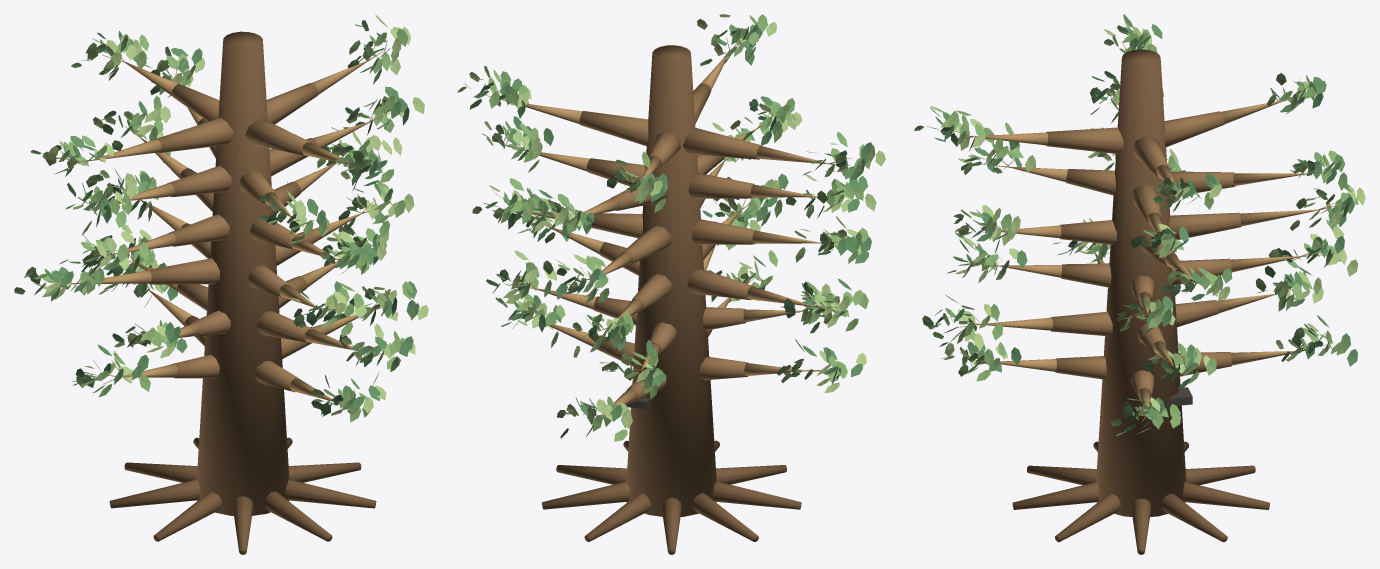
The model's file is old_tree_landmark.glb.
3 views of the same model, side by side, from view 1: azimuth 30°, elevation 25°; view 2: azimuth 150°, elevation 25°; view 3: azimuth 270°, elevation 25° (orthographic). The views are drawn at different scales.
Visible parts, largest first — view 1: old_tree_trunk, old_tree_branch_5_2_a, old_tree_branch_2_2_a, old_root_4, old_root_8, old_tree_branch_5_3_a, old_tree_branch_4_2_a, old_tree_branch_3_2_a, old_root_5, old_root_7, old_tree_branch_5_0_a, old_tree_branch_1_3_a (+14 smaller); view 2: old_tree_trunk, old_tree_branch_5_2_a, old_tree_branch_5_0_a, old_tree_branch_4_2_a, old_root_5, old_root_1, old_tree_branch_2_2_a, old_tree_branch_3_2_a, old_root_4, old_root_2, old_tree_branch_3_0_a, old_tree_branch_3_1_a (+13 smaller); view 3: old_tree_trunk, old_tree_branch_5_3_a, old_tree_branch_3_1_a, old_root_2, old_root_7, old_tree_branch_5_1_a, old_tree_branch_1_3_a, old_tree_branch_3_3_a, old_root_1, old_root_8, old_tree_branch_4_3_a, old_tree_branch_2_3_a (+12 smaller).
Boxes of the visible parts, box(x1,y1,x2,y2) form: old_tree_trunk: box(197, 31, 289, 515); old_tree_branch_5_2_a: box(155, 118, 233, 152); old_tree_branch_2_2_a: box(147, 258, 219, 284); old_root_4: box(109, 479, 200, 508); old_root_8: box(285, 479, 376, 508); old_tree_branch_5_3_a: box(245, 119, 310, 156); old_tree_branch_4_2_a: box(167, 165, 231, 197); old_tree_branch_3_2_a: box(169, 214, 229, 246); old_root_5: box(153, 491, 221, 541); old_root_7: box(264, 491, 332, 541); old_tree_branch_5_0_a: box(266, 83, 318, 124); old_tree_branch_1_3_a: box(256, 311, 312, 342); old_tree_trunk: box(626, 45, 716, 516); old_tree_branch_5_2_a: box(683, 127, 761, 159); old_tree_branch_5_0_a: box(579, 111, 648, 146); old_tree_branch_4_2_a: box(688, 173, 754, 198); old_root_5: box(713, 481, 801, 509); old_root_1: box(542, 481, 630, 509); old_tree_branch_2_2_a: box(687, 268, 753, 300); old_tree_branch_3_2_a: box(692, 219, 755, 244); old_root_4: box(692, 493, 758, 541); old_root_2: box(584, 493, 650, 541); old_tree_branch_3_0_a: box(592, 213, 642, 238); old_tree_branch_3_1_a: box(622, 225, 671, 264); old_tree_trunk: box(1096, 49, 1186, 516); old_tree_branch_5_3_a: box(1046, 127, 1123, 154); old_tree_branch_3_1_a: box(1169, 212, 1241, 239); old_root_2: box(1183, 482, 1269, 509); old_root_7: box(1012, 482, 1099, 509); old_tree_branch_5_1_a: box(1164, 111, 1224, 147); old_tree_branch_1_3_a: box(1050, 311, 1112, 336); old_tree_branch_3_3_a: box(1060, 220, 1116, 244); old_root_1: box(1161, 494, 1227, 542); old_root_8: box(1055, 494, 1120, 542); old_tree_branch_4_3_a: box(1066, 169, 1115, 195); old_tree_branch_2_3_a: box(1061, 263, 1111, 287).
Size of the model in its own units: 5.29 by 5.82 by 5.39.
